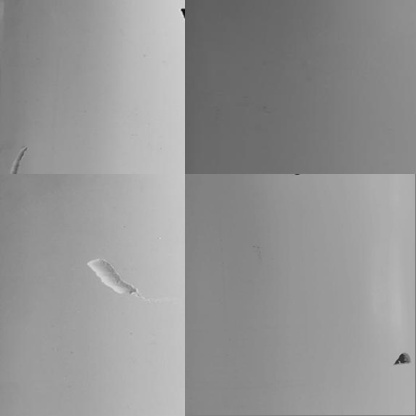kongdong: (388, 349, 410, 367)
sunshang: (83, 254, 140, 299), (9, 147, 31, 174)
